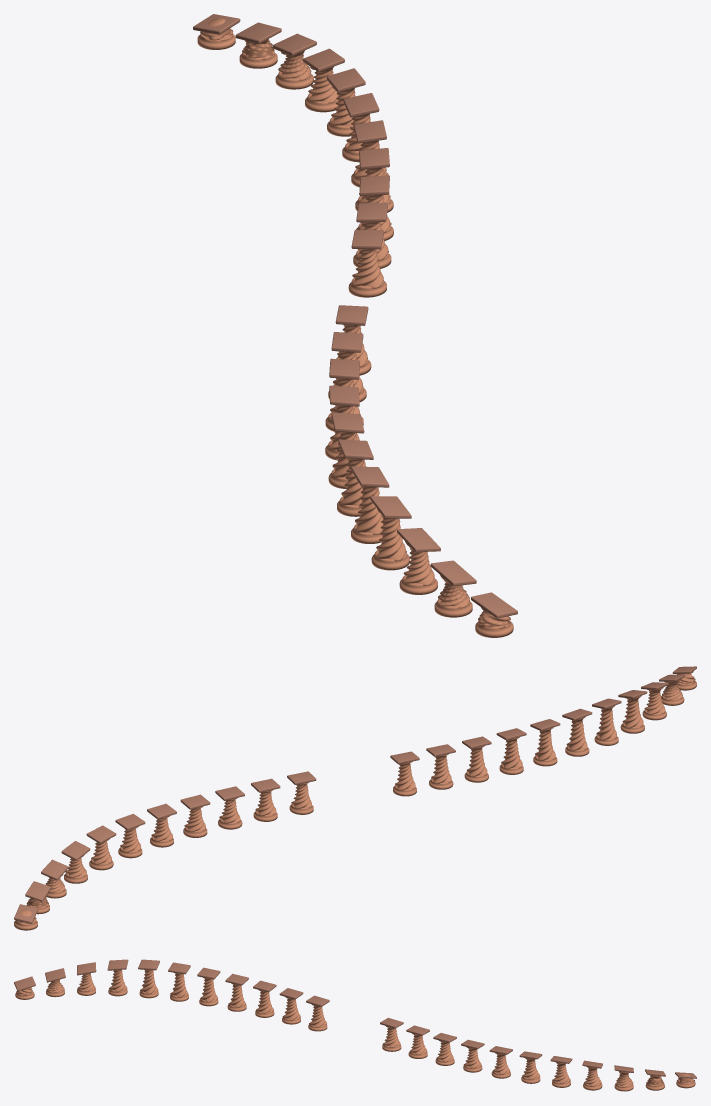
The model's file is sc02_supports_rope_fixture.glb.
The picture shows the model from 3 angles, top to bottom: view 1: azimuth 30°, elevation 25°; view 2: azimuth 150°, elevation 25°; view 3: azimuth 270°, elevation 25°; orthographic projection. The views are drawn at different scales.
Parts seen in each view (by area): view 1: SC02_ROPE_18_shaft, SC02_ROPE_17_shaft; view 2: SC02_ROPE_17_shaft, SC02_ROPE_16_shaft, SC02_ROPE_18_shaft, SC02_ROPE_15_shaft, SC02_ROPE_14_shaft, SC02_ROPE_13_shaft, SC02_ROPE_12_shaft, SC02_ROPE_11_shaft; view 3: SC02_ROPE_17_shaft, SC02_ROPE_15_shaft, SC02_ROPE_16_shaft, SC02_ROPE_13_shaft, SC02_ROPE_14_shaft, SC02_ROPE_12_shaft, SC02_ROPE_18_shaft, SC02_ROPE_11_shaft, SC02_ROPE_04_shaft, SC02_ROPE_05_shaft, SC02_ROPE_10_shaft, SC02_ROPE_07_shaft (+4 smaller).
Boxes of the visible parts, left/top/right/bottom form: SC02_ROPE_18_shaft: left=375, top=509, right=406, bottom=561; SC02_ROPE_17_shaft: left=354, top=479, right=383, bottom=534; SC02_ROPE_17_shaft: left=596, top=705, right=616, bottom=740; SC02_ROPE_16_shaft: left=566, top=716, right=587, bottom=751; SC02_ROPE_18_shaft: left=622, top=695, right=643, bottom=728; SC02_ROPE_15_shaft: left=535, top=727, right=555, bottom=760; SC02_ROPE_14_shaft: left=501, top=737, right=522, bottom=769; SC02_ROPE_13_shaft: left=467, top=746, right=487, bottom=776; SC02_ROPE_12_shaft: left=431, top=754, right=451, bottom=783; SC02_ROPE_11_shaft: left=395, top=761, right=415, bottom=790; SC02_ROPE_17_shaft: left=140, top=969, right=158, bottom=994; SC02_ROPE_15_shaft: left=200, top=977, right=217, bottom=1002; SC02_ROPE_16_shaft: left=170, top=972, right=188, bottom=997; SC02_ROPE_13_shaft: left=255, top=989, right=273, bottom=1013; SC02_ROPE_14_shaft: left=228, top=983, right=245, bottom=1007; SC02_ROPE_12_shaft: left=282, top=997, right=300, bottom=1020; SC02_ROPE_18_shaft: left=109, top=970, right=127, bottom=992; SC02_ROPE_11_shaft: left=309, top=1004, right=326, bottom=1027; SC02_ROPE_04_shaft: left=552, top=1062, right=570, bottom=1083; SC02_ROPE_05_shaft: left=522, top=1057, right=539, bottom=1079; SC02_ROPE_10_shaft: left=382, top=1026, right=400, bottom=1047; SC02_ROPE_07_shaft: left=463, top=1047, right=481, bottom=1068.
Bounding box in the file's own units: 97.17 × 13.95 × 257.
